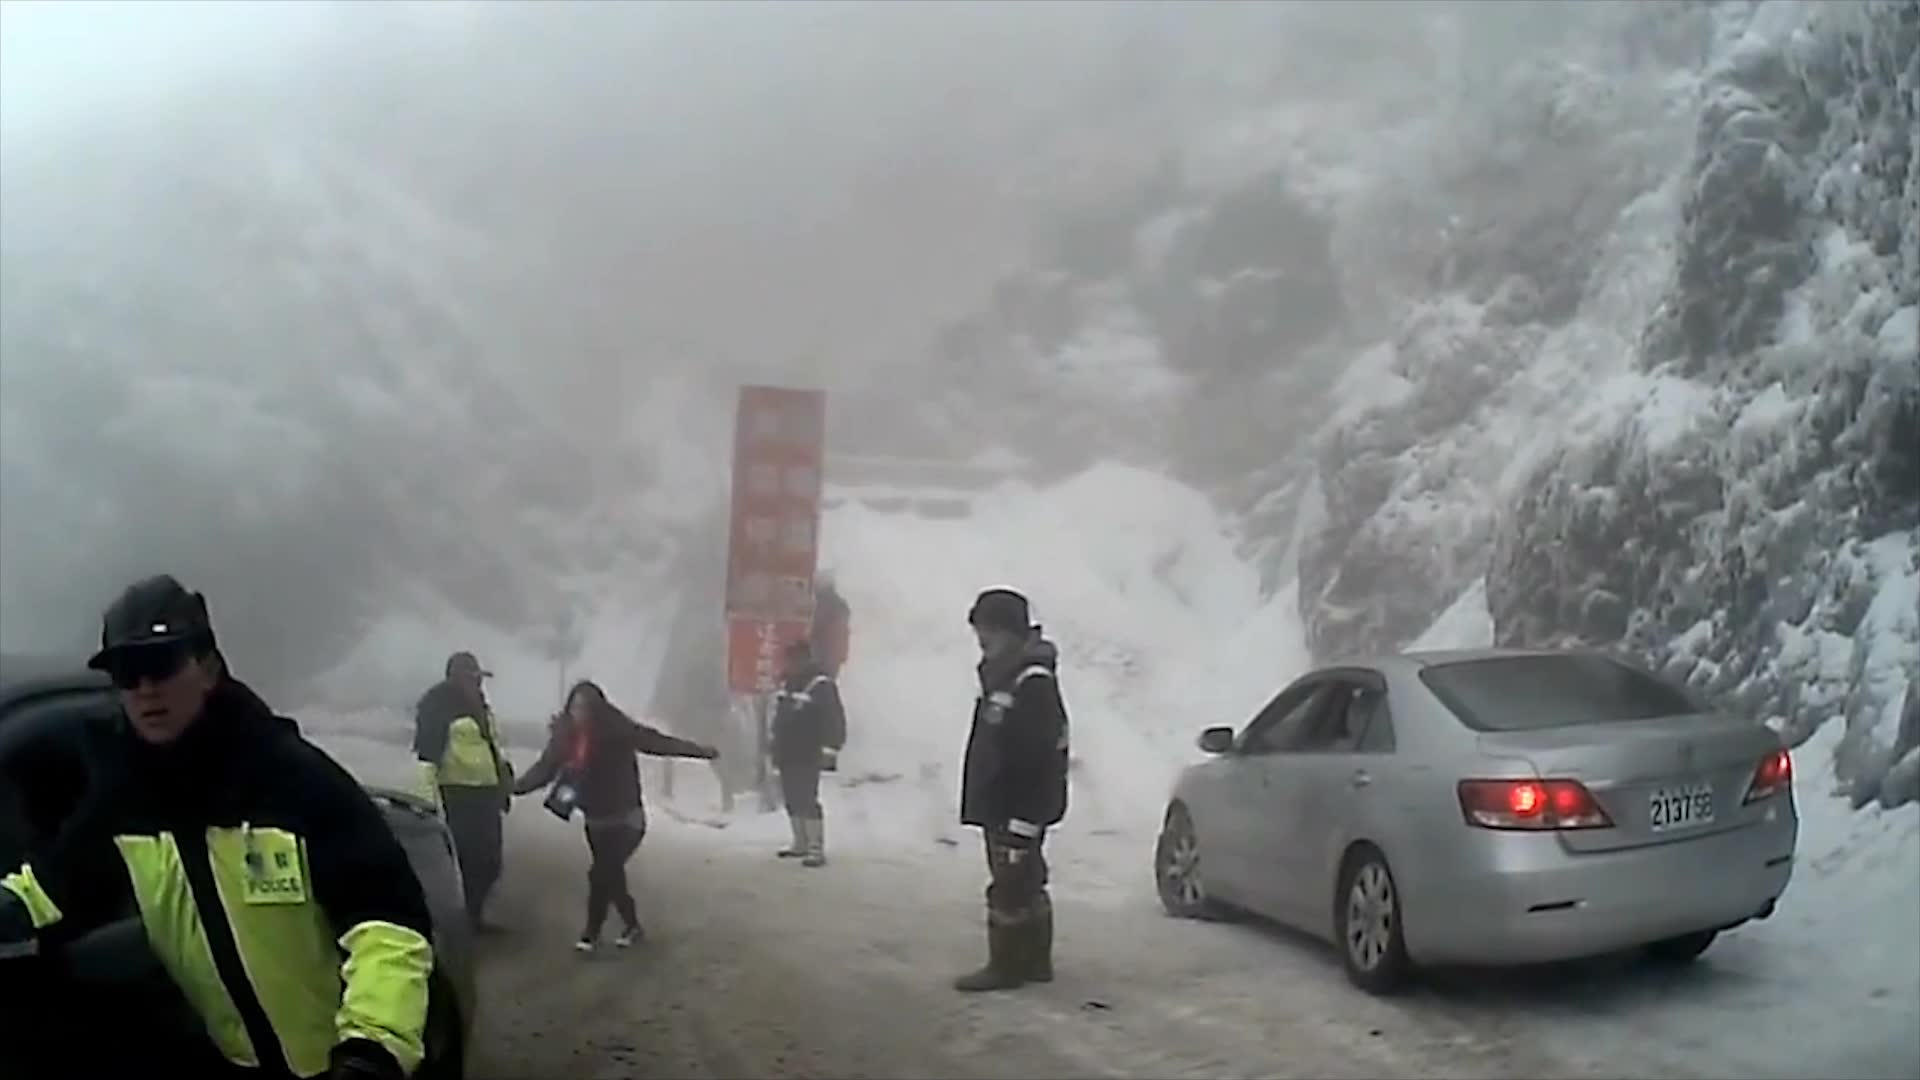pedestrian: (8, 572, 441, 1080), (513, 677, 712, 954), (938, 586, 1069, 992), (405, 649, 522, 934), (764, 638, 847, 866), (795, 564, 857, 751)
vehicle: (1150, 646, 1799, 994), (0, 657, 474, 1079)
